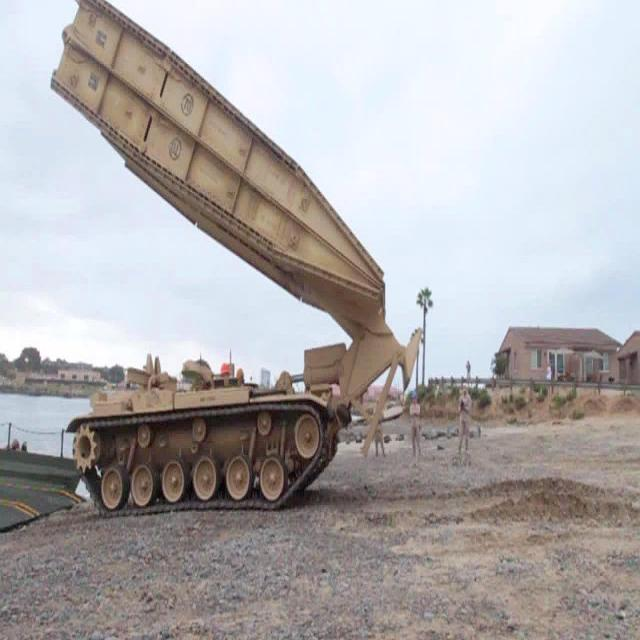Tanks: (70, 381, 351, 530)
